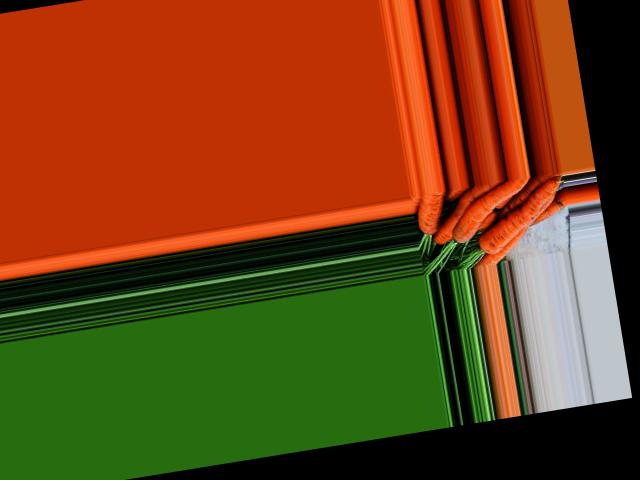carrot: (409, 192, 449, 243)
